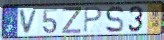3: (127, 5, 147, 34)
5: (42, 8, 59, 35)
P: (83, 7, 104, 35)
S: (105, 5, 125, 34)
V: (19, 8, 40, 35)
Z: (60, 7, 82, 35)
